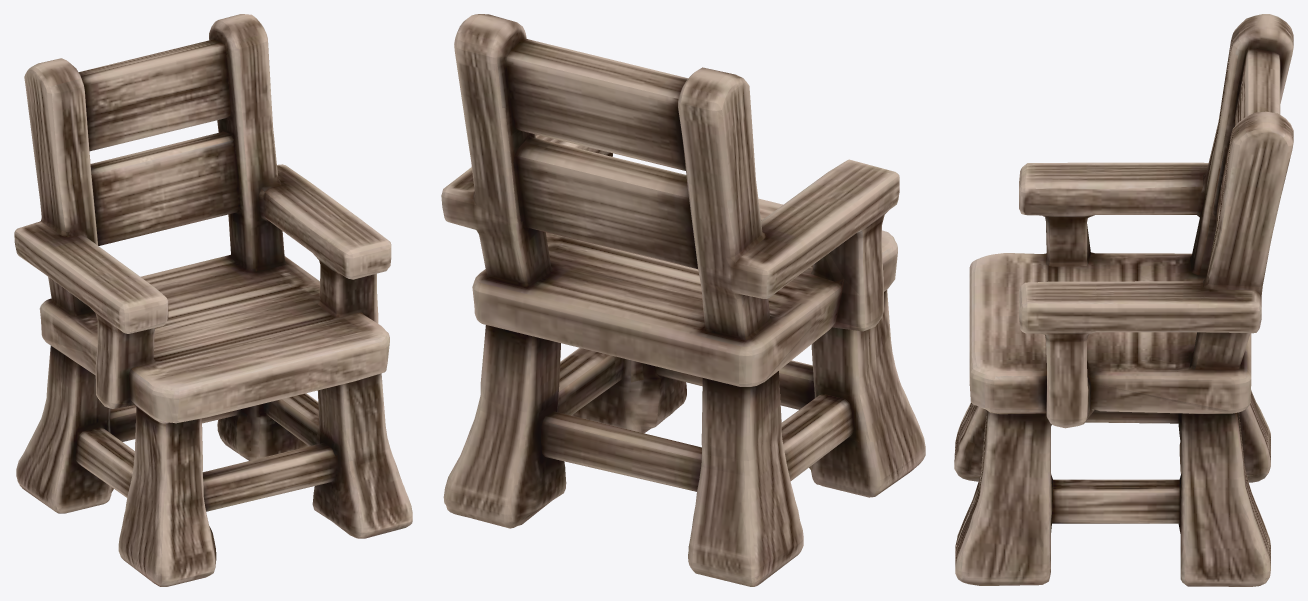
File: chair_wood.glb
3 views of the same model, side by side, from view 1: azimuth 30°, elevation 25°; view 2: azimuth 150°, elevation 25°; view 3: azimuth 270°, elevation 25° (orthographic). The views are drawn at different scales.
Bounding box in the file's own units: 1.3 × 1.91 × 1.29.
1 material, 1 textured.
